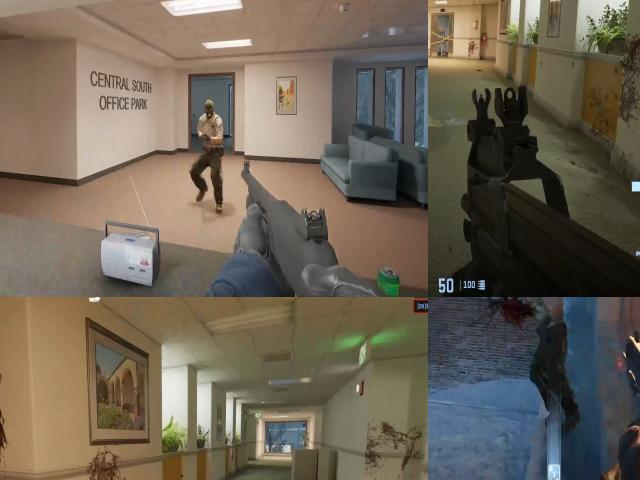Dead: (511, 297, 573, 399)
T-Head: (194, 93, 232, 175), (200, 98, 220, 123)
